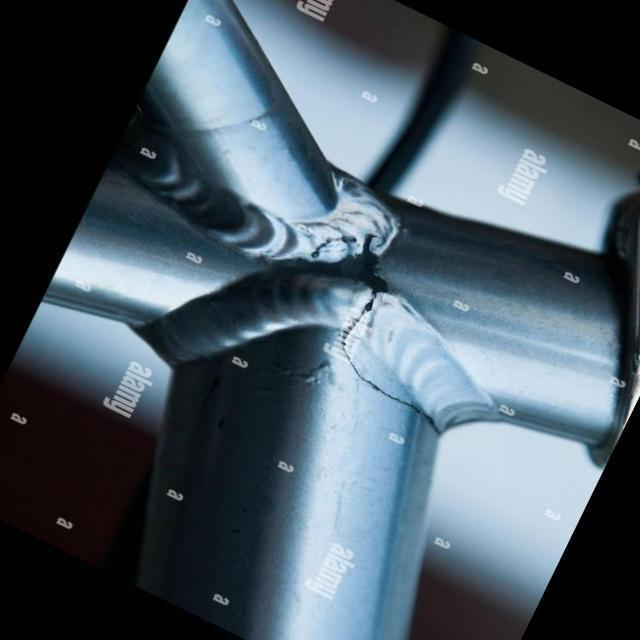defect: (333, 286, 449, 445), (304, 230, 359, 262)
